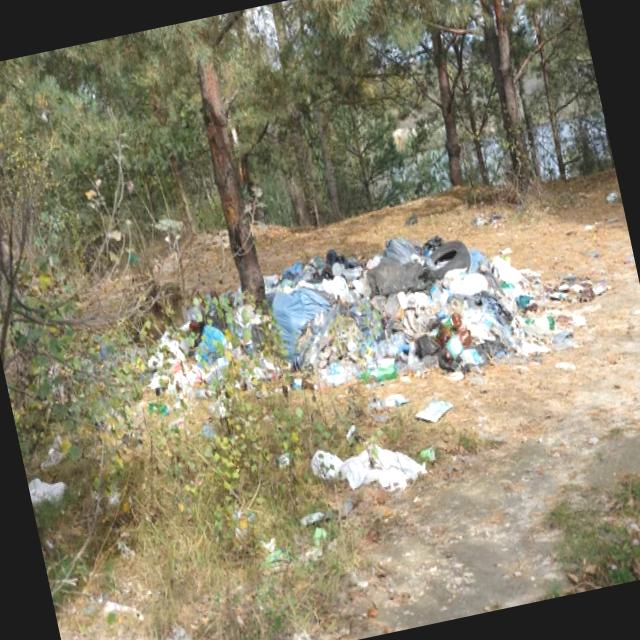garbage: (105, 149, 596, 546)
